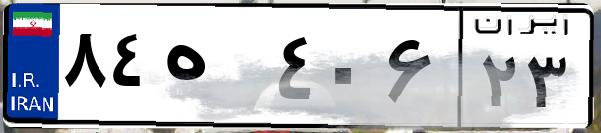0: (330, 28, 385, 110)
2: (475, 38, 525, 113)
3: (525, 38, 570, 115)
4: (270, 28, 330, 110), (110, 28, 158, 98)
6: (385, 28, 445, 110)
8: (57, 26, 110, 100)
ه: (158, 20, 270, 120)
